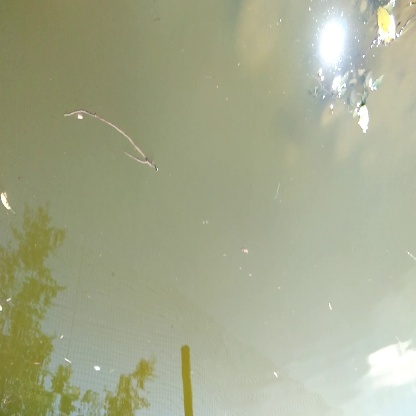branch: (60, 102, 168, 177)
